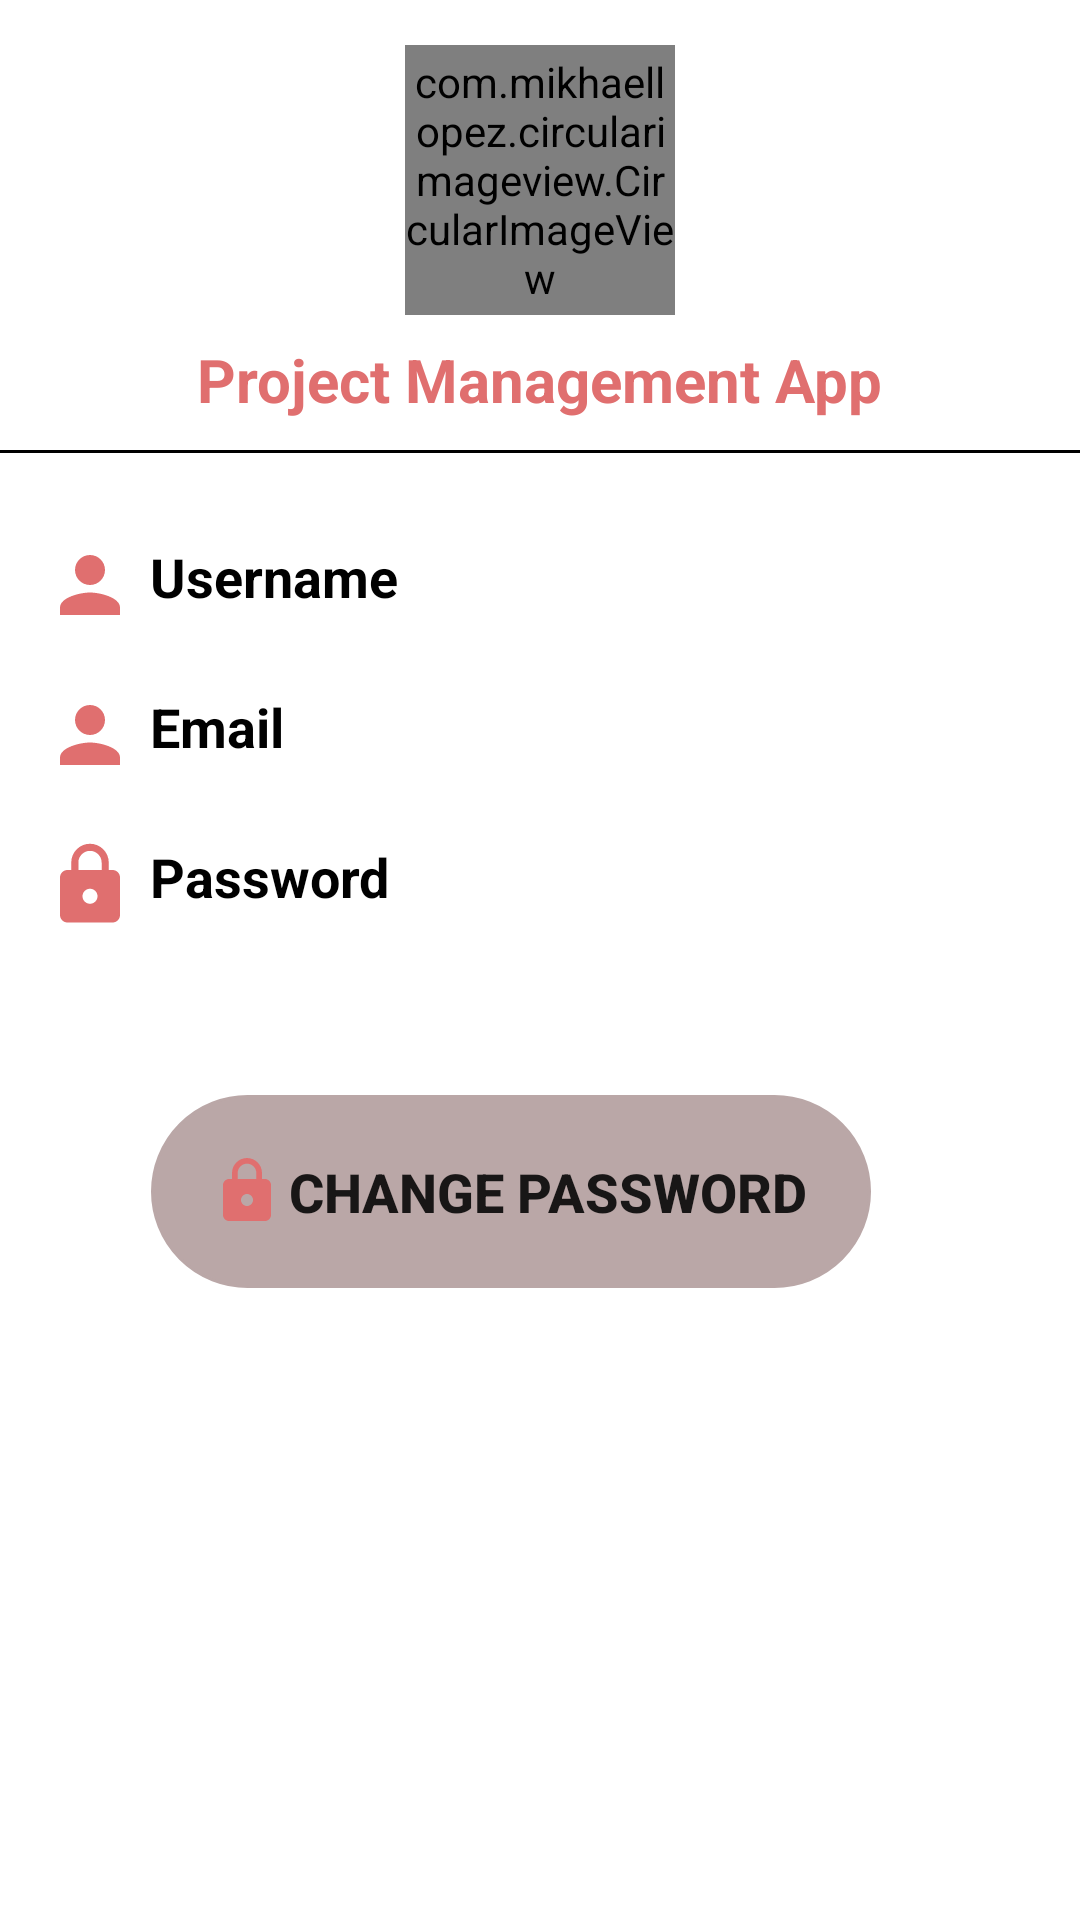

Named icons in this screenshot (1080×1920) and their bounding boxes, (x1, y1, x2, y2):
lock: (60, 843, 120, 923)
person: (60, 555, 120, 615), (60, 705, 120, 765)
